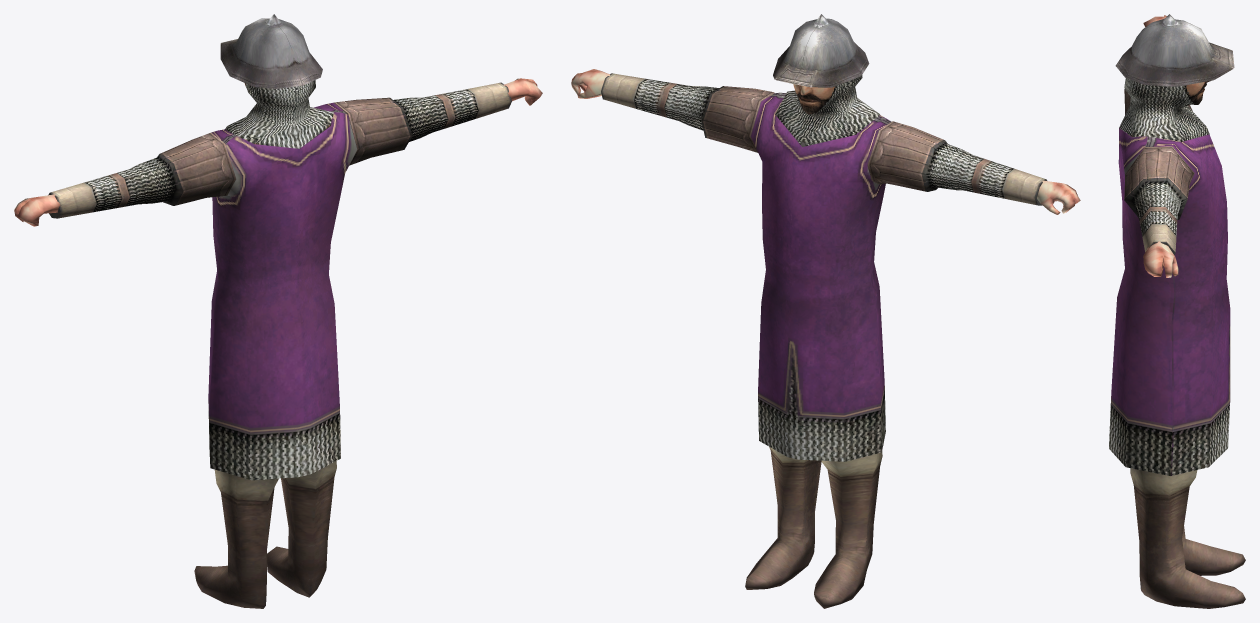
The model's file is Archer1.glb.
3 renders of one model, left to right at view 1: azimuth 30°, elevation 25°; view 2: azimuth 150°, elevation 25°; view 3: azimuth 270°, elevation 25°, orthographic. The views are drawn at different scales.
Parts seen in each view (by area): view 1: Body__Body_16, Arms__Arms__03, Legs__Legs_10, Helmet__helmet_06, Head__Head_14, Hands__Hands__2; view 2: Body__Body_16, Arms__Arms__03, Legs__Legs_10, Helmet__helmet_06, Head__Head_14, Hands__Hands__2; view 3: Body__Body_16, Legs__Legs_10, Helmet__helmet_06, Arms__Arms__03, Head__Head_14, Hands__Hands__2.
Boxes of the visible parts, box(x1,y1,x2,y2) form: Body__Body_16: box(208, 102, 357, 480); Arms__Arms__03: box(48, 82, 511, 218); Legs__Legs_10: box(194, 461, 336, 608); Helmet__helmet_06: box(220, 14, 322, 88); Head__Head_14: box(225, 80, 333, 148); Hands__Hands__2: box(14, 78, 542, 226); Body__Body_16: box(750, 92, 891, 461); Arms__Arms__03: box(601, 73, 1047, 205); Legs__Legs_10: box(745, 447, 882, 608); Helmet__helmet_06: box(773, 14, 869, 87); Head__Head_14: box(775, 75, 879, 146); Hands__Hands__2: box(571, 69, 1080, 214); Body__Body_16: box(1109, 124, 1230, 475); Legs__Legs_10: box(1130, 468, 1245, 608); Helmet__helmet_06: box(1115, 14, 1234, 86); Arms__Arms__03: box(1124, 89, 1194, 255); Head__Head_14: box(1119, 78, 1210, 141); Hands__Hands__2: box(1143, 15, 1178, 277).
Bounding box in the file's own units: 1.83 × 1.94 × 0.4217.
1 material, 1 textured.
